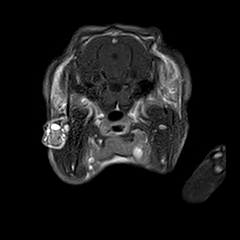Brain: (66, 7, 165, 105)
